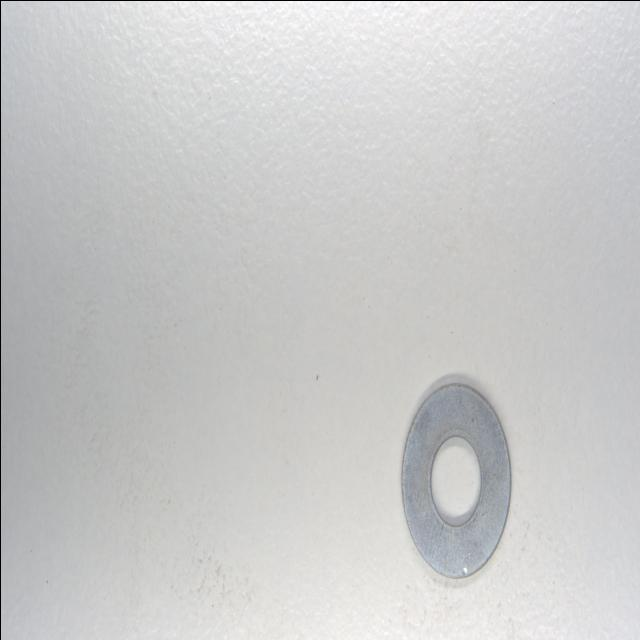washer: (400, 380, 512, 580)
